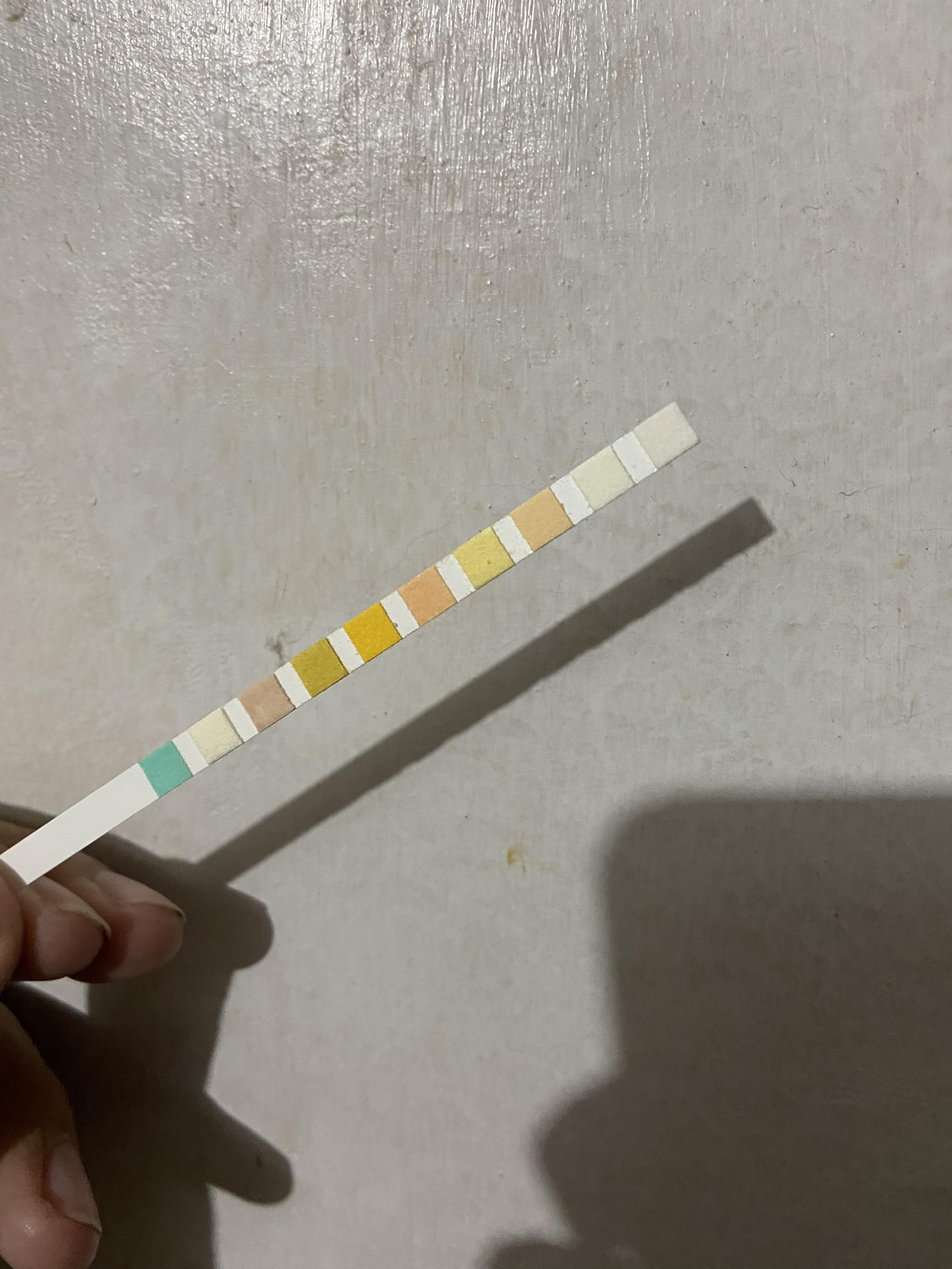Bilirubin: (203, 720, 228, 754)
Blood: (357, 618, 387, 650)
Glucose: (152, 751, 179, 785)
Ketone: (250, 688, 282, 718)
Leukocytes: (647, 420, 683, 452)
Nitrite: (585, 462, 620, 495)
Protein: (467, 543, 501, 574)
SpGravity: (304, 651, 334, 684)
Urobilinogen: (525, 504, 559, 537)
pH: (411, 581, 445, 612)
strip: (3, 403, 702, 886)
